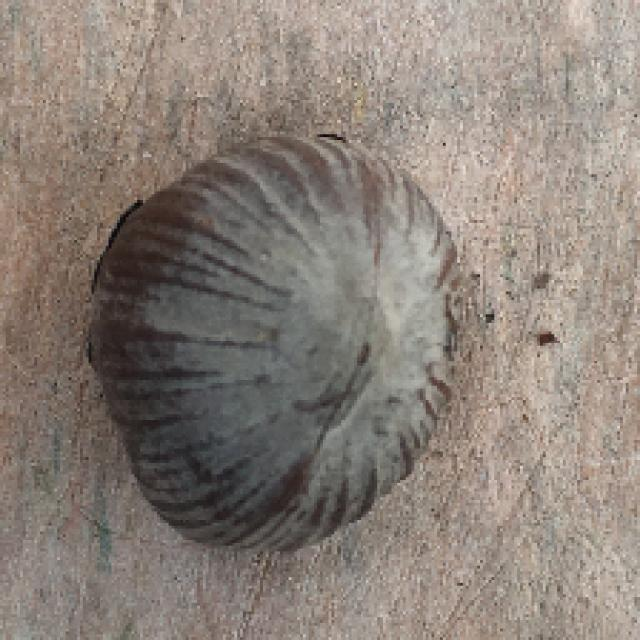damagedHazelnut: (88, 124, 472, 548)
